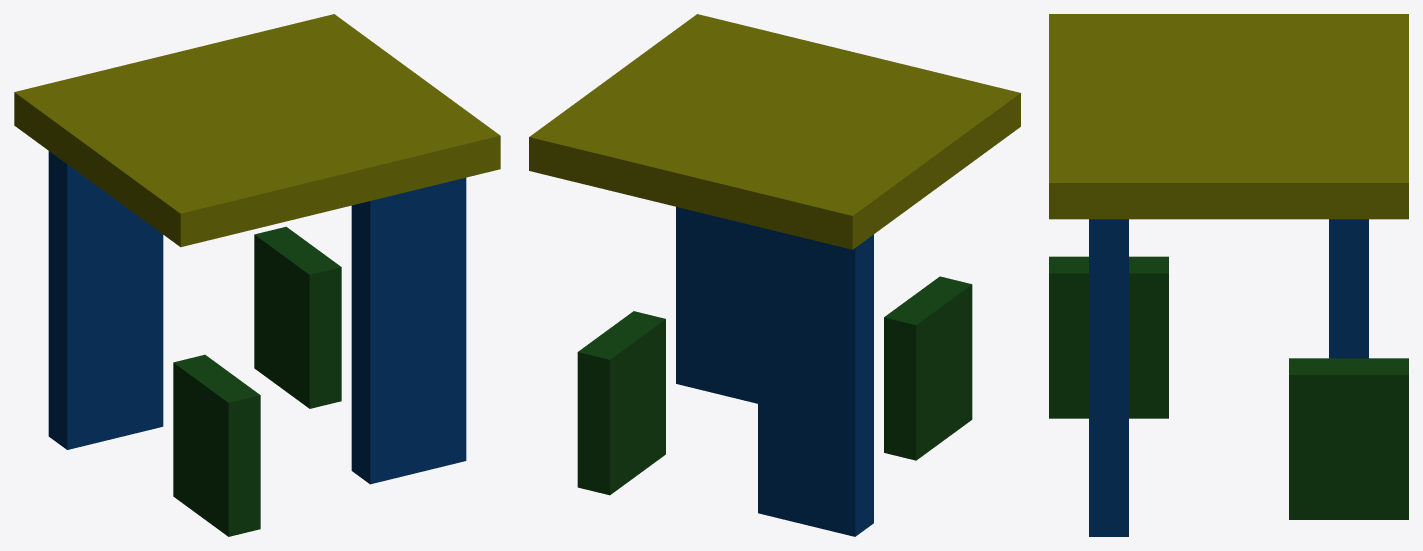
The model's file is T7DirR.fbx.
3 views of the same model, side by side, from view 1: azimuth 30°, elevation 25°; view 2: azimuth 150°, elevation 25°; view 3: azimuth 270°, elevation 25° (orthographic). The views are drawn at different scales.
Parts seen in each view (by area): view 1: 1, 4, 3, 2; view 2: 4, 2, 3, 1; view 3: 2, 1, 3, 4.
Boxes of the visible parts, <box> form: 1: <box>258,75,500,484</box>; 4: <box>14,53,256,449</box>; 3: <box>97,114,340,536</box>; 2: <box>175,14,416,408</box>; 4: <box>691,115,936,536</box>; 2: <box>529,75,774,495</box>; 3: <box>775,53,1020,460</box>; 1: <box>613,14,858,403</box>; 2: <box>1229,98,1408,519</box>; 1: <box>1049,98,1228,536</box>; 3: <box>1049,14,1228,418</box>; 4: <box>1229,14,1408,358</box>.
Size of the model in its own units: 200 by 200 by 180.
